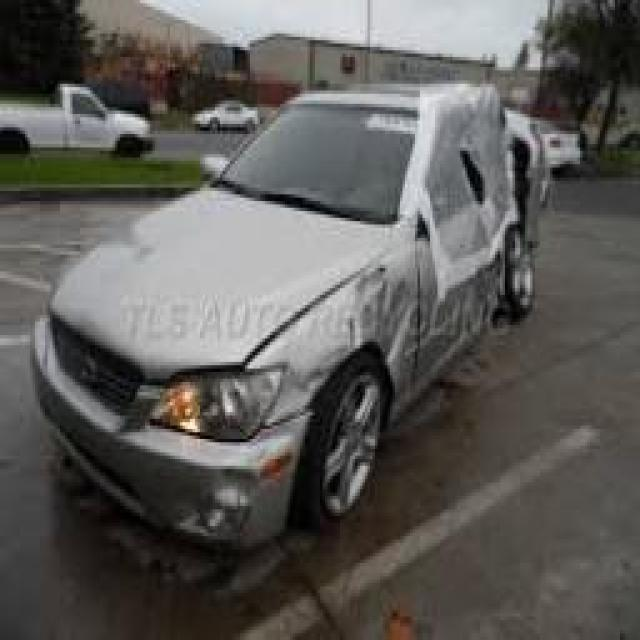Bumper: (129, 423, 317, 547)
Door: (408, 98, 511, 380)
Fender: (251, 230, 435, 437), (508, 107, 563, 249)
